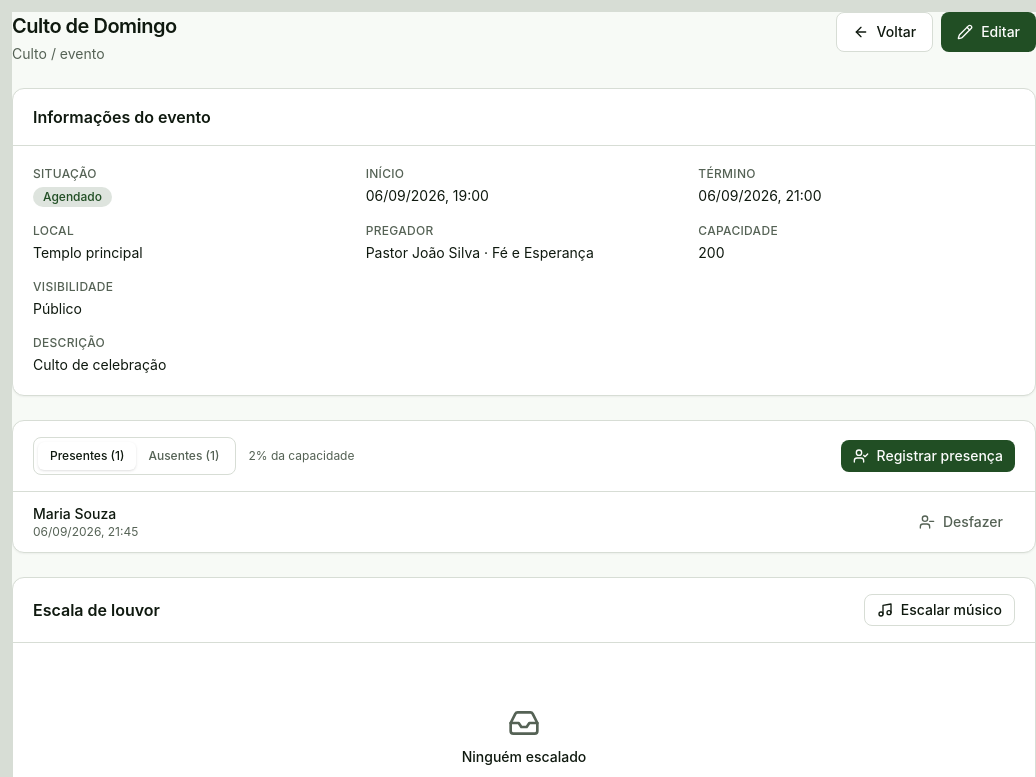
Test: ScheduleDetailPage — Presença e Ausentes › executa o check-in manual de um membro ausente
This screenshot has width=1036, height=777.
Click the button "Ausentes (1)" at [184, 456], box [136,442,231,470]
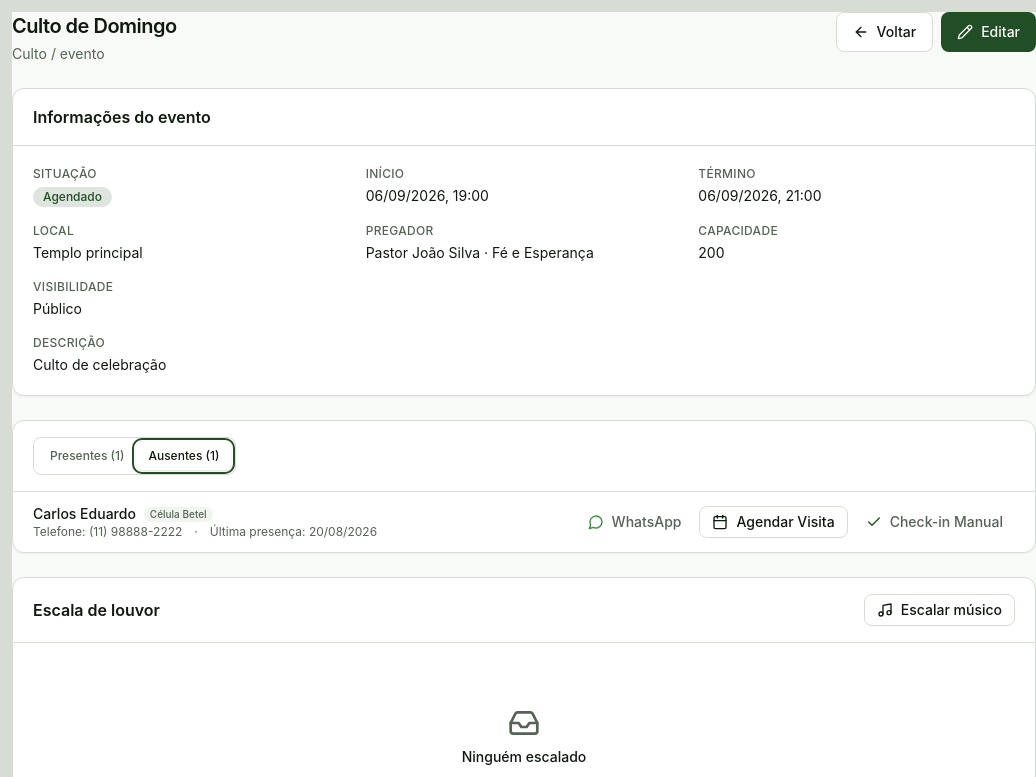
Click the button with aria-label "Fazer check-in manual de Carlos Eduardo" at [934, 522], box [854,506,1015,538]
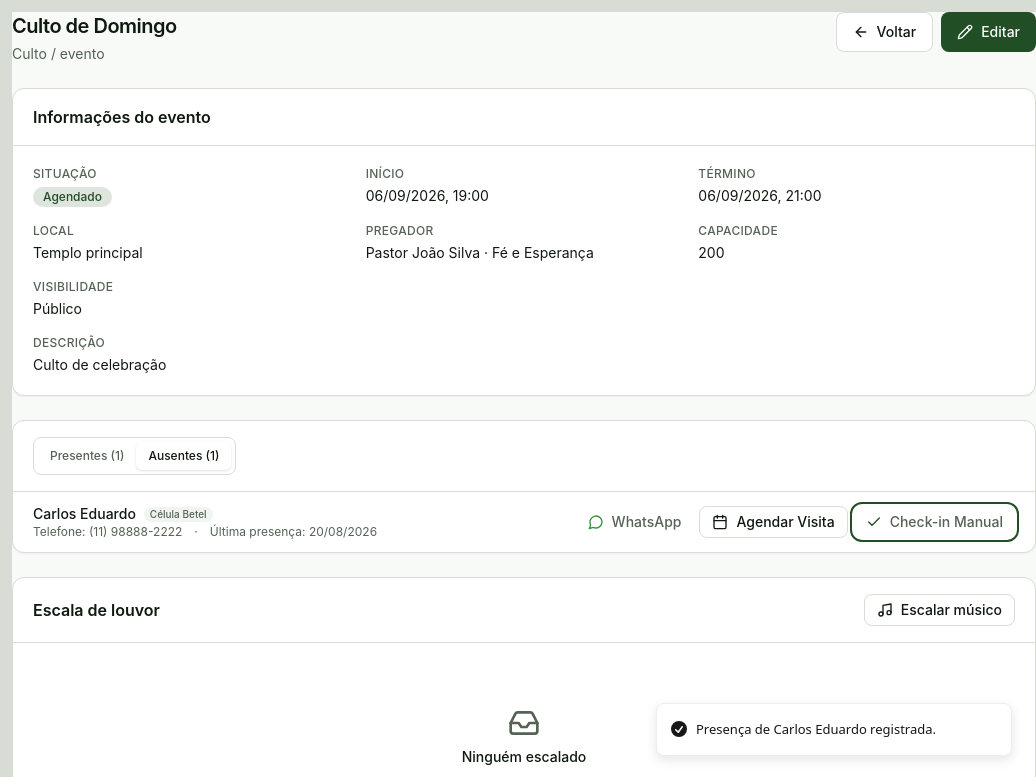
Expected: the text "Presença de Carlos Eduardo registrada." is shown, [696,720,936,739]
